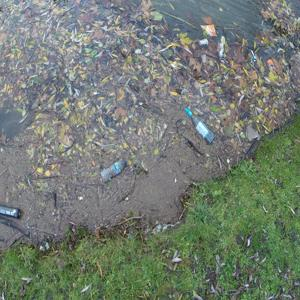glass: (179, 103, 223, 147), (1, 204, 29, 219)
plastic: (200, 17, 222, 43)
plastic bottle: (95, 161, 131, 187)
